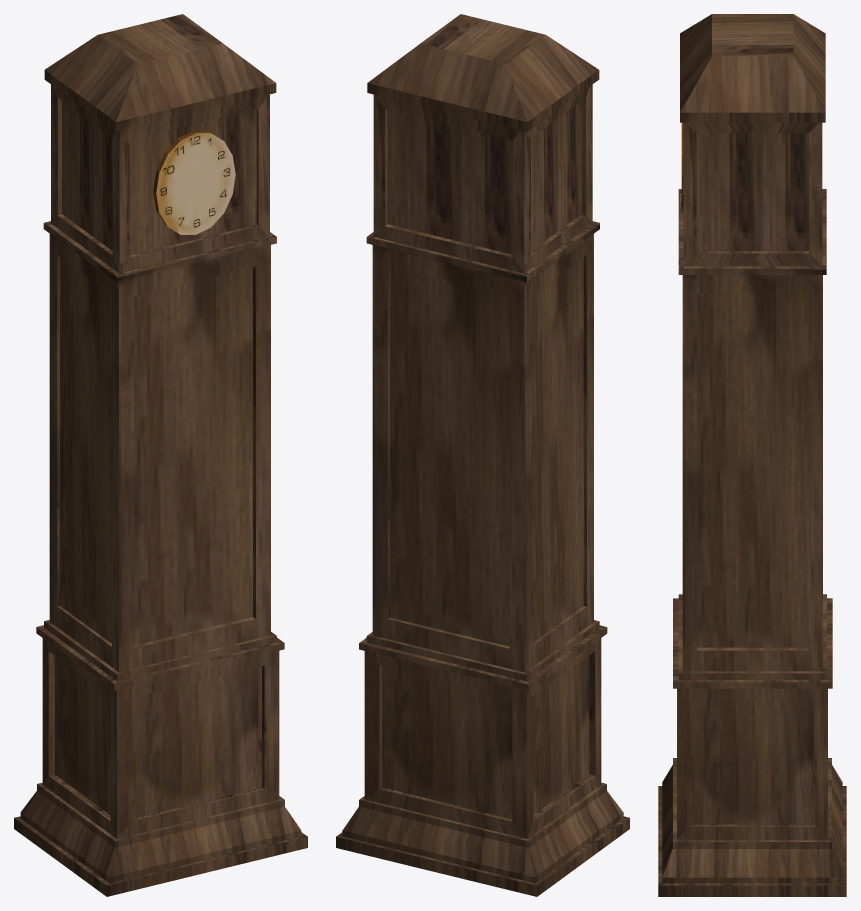
Rendered from BodyPuzzleFloorClock.fbx.
The picture shows the model from 3 angles, left to right: view 1: azimuth 30°, elevation 25°; view 2: azimuth 150°, elevation 25°; view 3: azimuth 270°, elevation 25°; orthographic projection.
Parts seen in each view (by area): view 1: Cube.004; view 2: Cube.004; view 3: Cube.004.
Boxes of the visible parts, x1,y1,x2,y2 form: Cube.004: (14, 14, 307, 896); Cube.004: (336, 14, 629, 896); Cube.004: (658, 14, 846, 896).
Bounding box in the file's own units: 50 × 190 × 40.
Materials: 1 (1 with a texture image).
